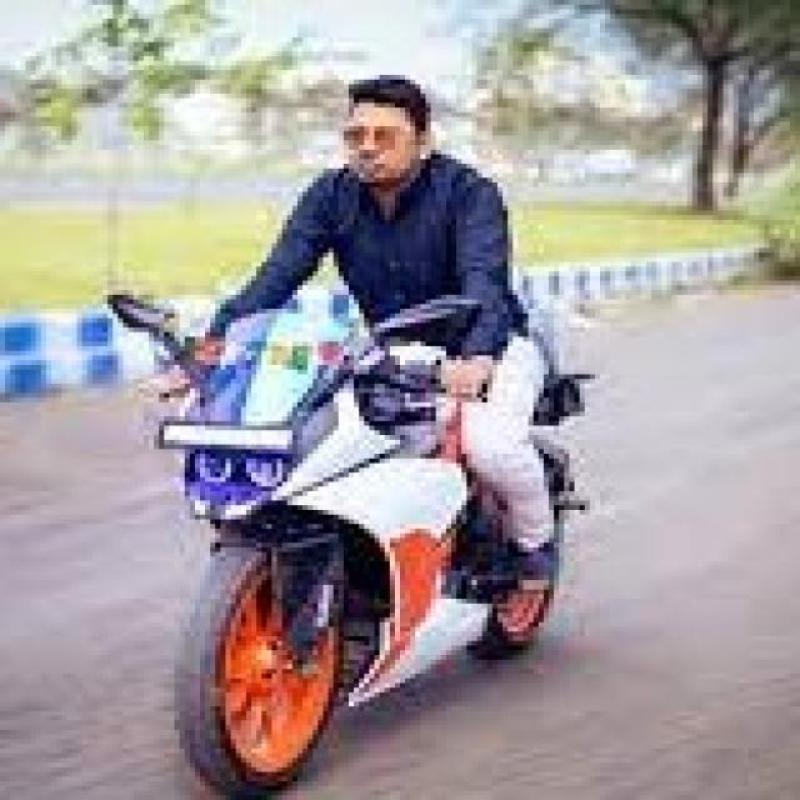nohelmet: (332, 85, 431, 184)
